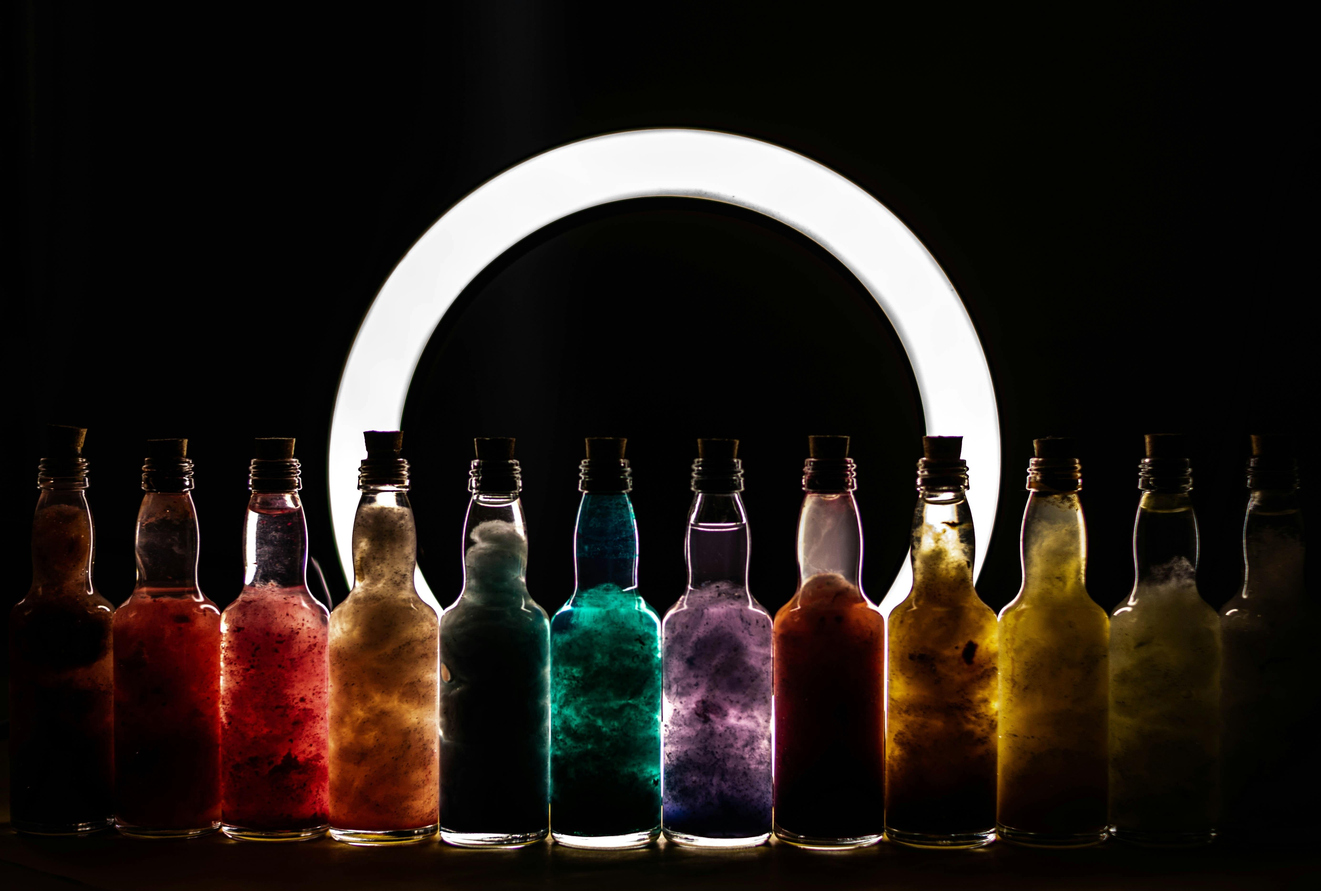Bottle-Detection: (420, 393, 570, 865), (987, 427, 1132, 884), (534, 408, 677, 856), (887, 410, 1025, 872), (1113, 386, 1242, 877), (653, 412, 789, 870), (779, 393, 903, 882), (219, 393, 343, 863), (329, 384, 448, 872), (117, 415, 246, 865), (0, 391, 124, 853), (1218, 412, 1321, 891)
